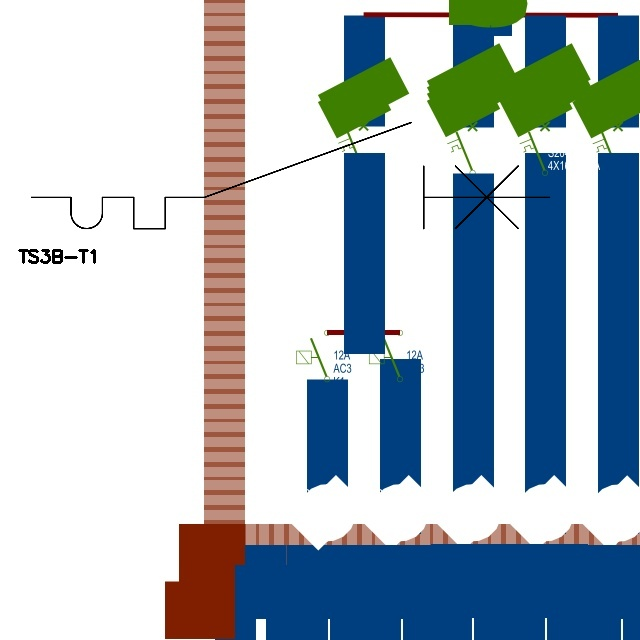interruptor_termomagnetico: (18, 109, 563, 242)
